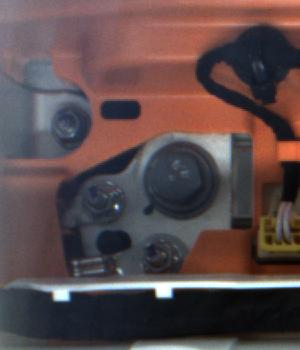nut_b: (136, 133, 226, 226)
